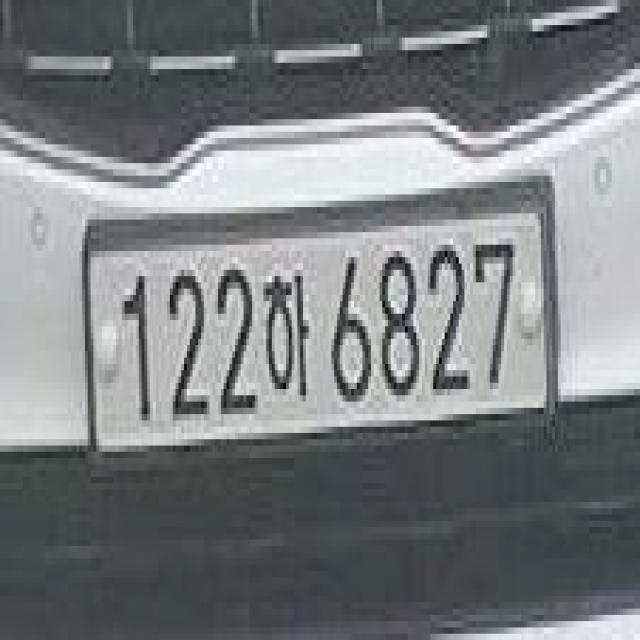illegal_plate: (85, 186, 558, 466)
